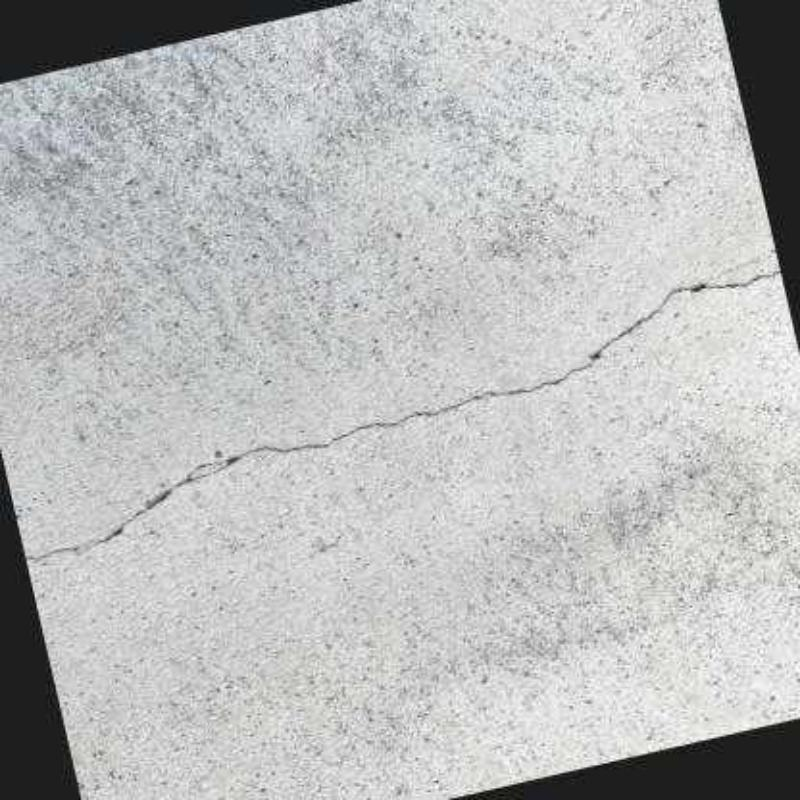pothole: (26, 271, 781, 561)
